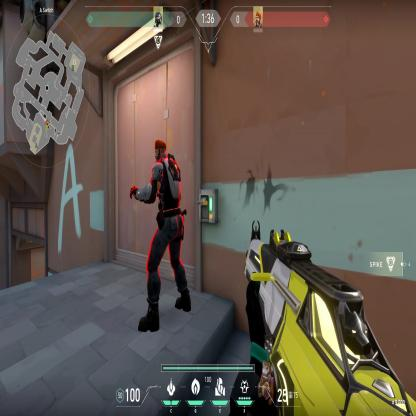enemy: (128, 138, 193, 336)
